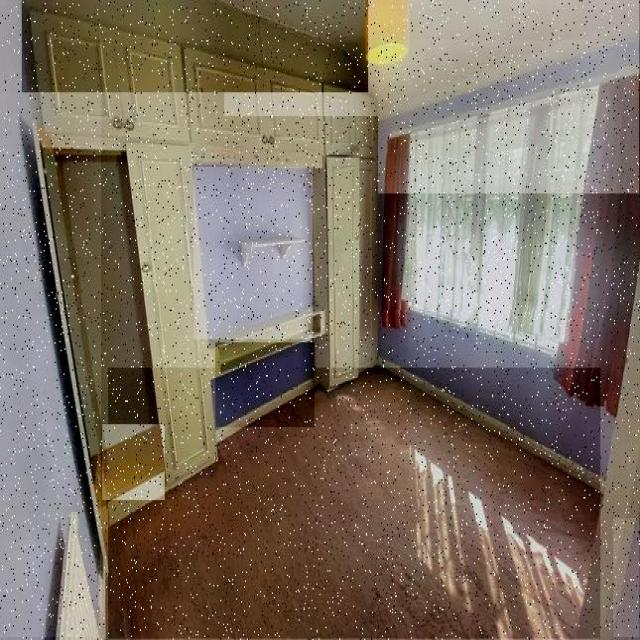Wall: (109, 369, 600, 639), (0, 0, 101, 637), (225, 0, 639, 116), (379, 41, 639, 193), (380, 311, 614, 476), (22, 0, 368, 92), (194, 167, 313, 339), (216, 343, 315, 427), (103, 426, 165, 500), (614, 520, 639, 637)
